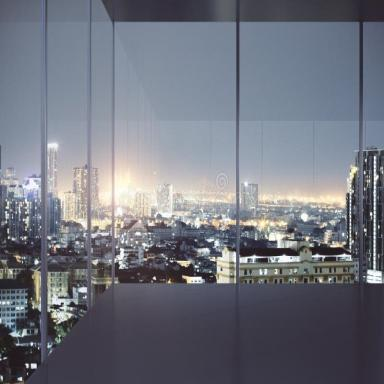glass_panel: (115, 22, 236, 284), (240, 22, 359, 284), (0, 0, 44, 382), (47, 0, 88, 345), (353, 22, 384, 284), (91, 0, 112, 303)
